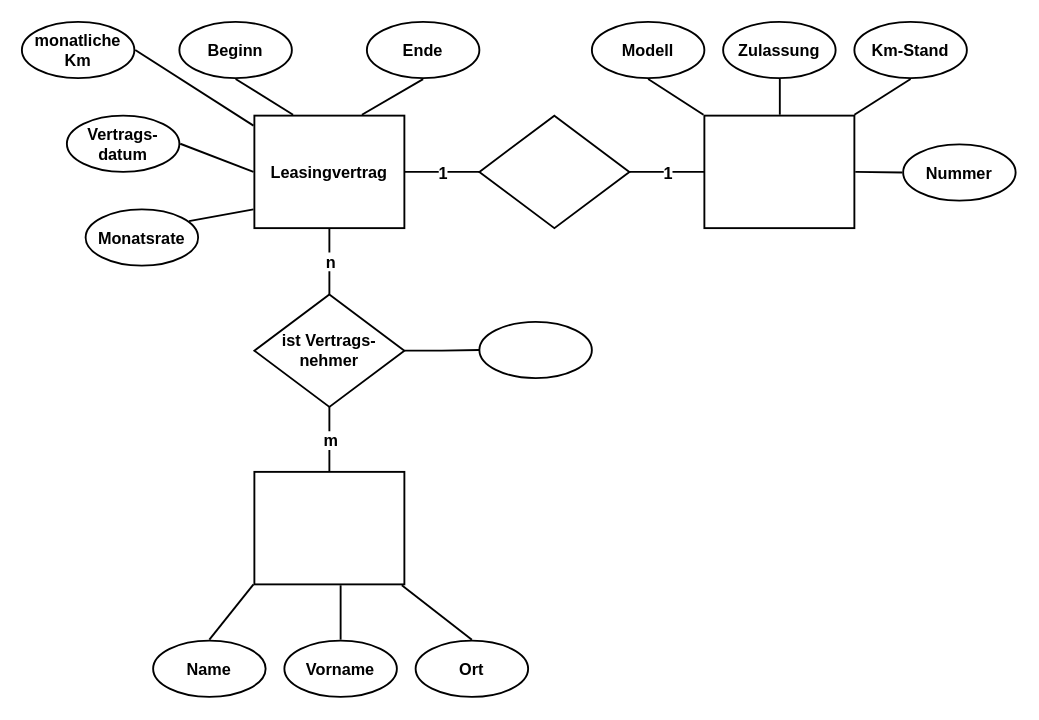
Image size: 1039x720. Some labels were removed from this diagram. Here are the shapes that lost their labels. From the top down, the centre of each, then its label:
pixel 554 171: hat
pixel 779 171: Fahrzeug
pixel 535 349: Halter ja/nein
pixel 329 527: Person
